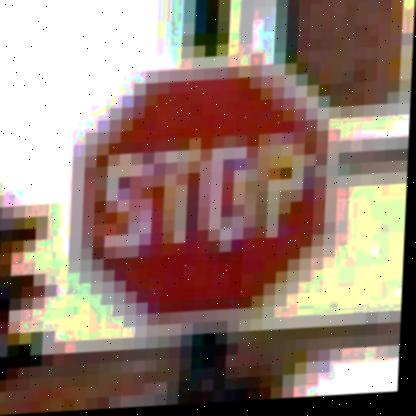Stop Sign: (60, 48, 353, 339)
